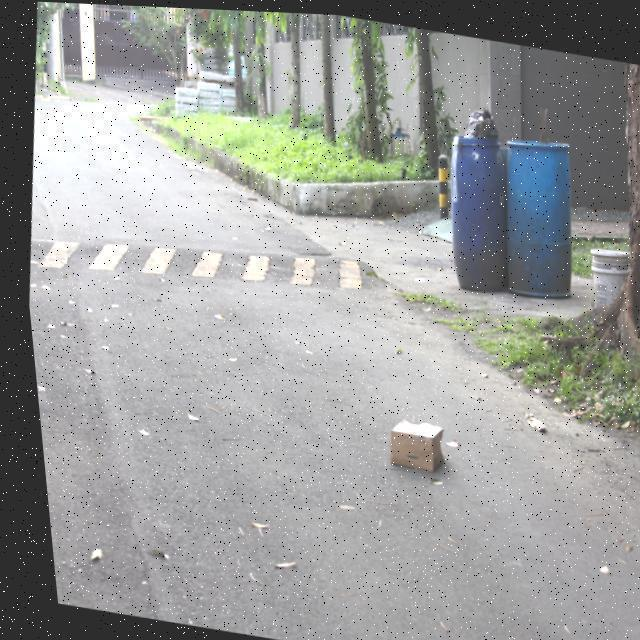Paper_Bag: (376, 413, 441, 470)
